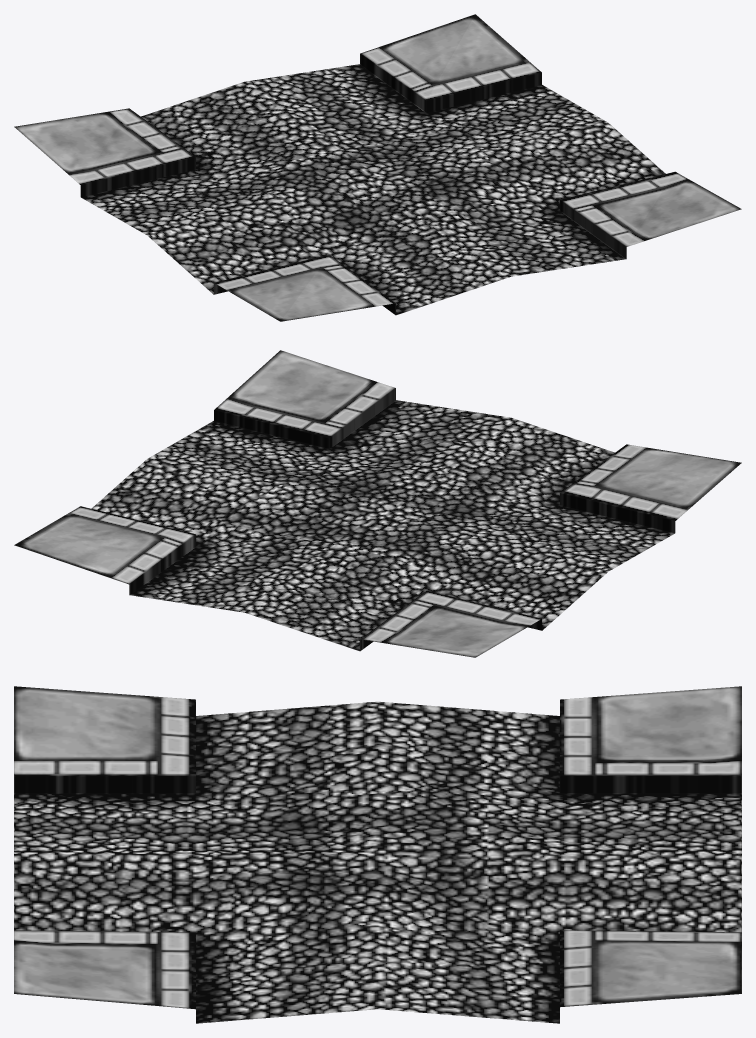
File: street_Straße_Kreuzung1_1794.glb
3 views of the same model, one above another, from view 1: azimuth 30°, elevation 25°; view 2: azimuth 150°, elevation 25°; view 3: azimuth 270°, elevation 25° (orthographic). The views are drawn at different scales.
Parts seen in each view (by area): view 1: pPlaneShape169; view 2: pPlaneShape169; view 3: pPlaneShape169.
Boxes of the visible parts, box(x1,y1,x2,y2) form: pPlaneShape169: box(14, 14, 741, 321); pPlaneShape169: box(14, 350, 741, 657); pPlaneShape169: box(14, 686, 741, 1023).
Size of the model in its own units: 1 by 0.0451 by 1.
Materials: 1 (1 with a texture image).
